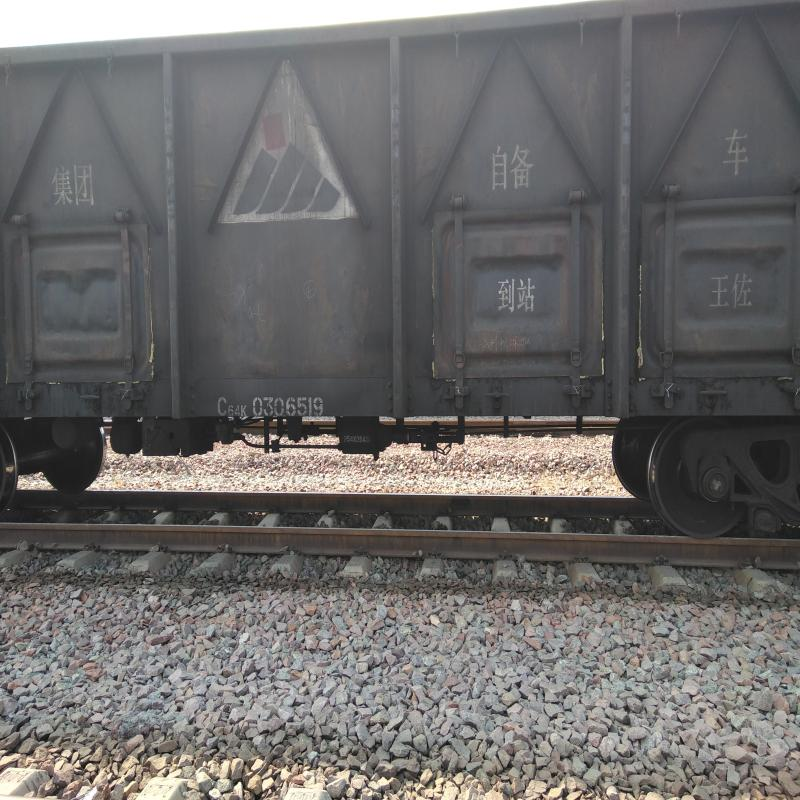train: (16, 48, 798, 534)
